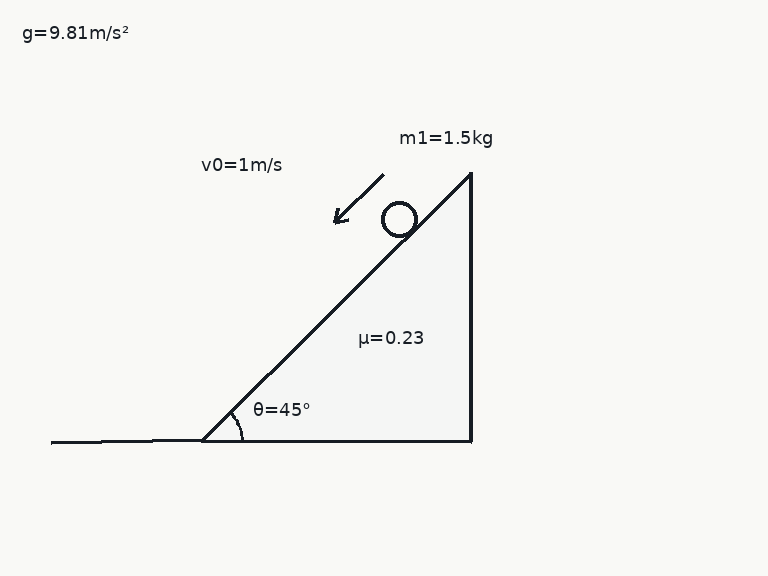ball: (379, 199, 419, 239)
ramp: (200, 171, 472, 443)
